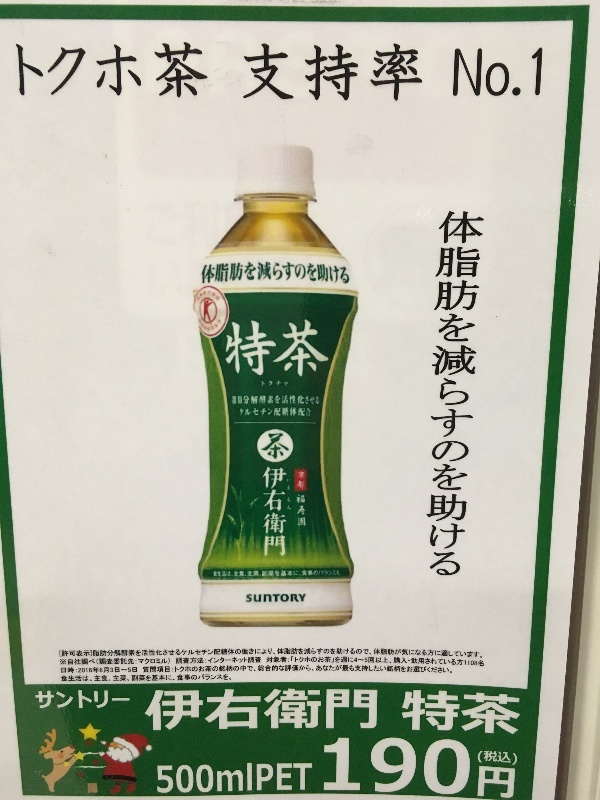text: (449, 210, 464, 583), (465, 210, 480, 583), (434, 210, 448, 583), (273, 429, 288, 557), (261, 429, 272, 557), (481, 210, 484, 583), (241, 40, 256, 110), (257, 40, 272, 110), (273, 40, 288, 110), (289, 40, 304, 110), (305, 40, 320, 110), (321, 40, 336, 110), (337, 40, 352, 110), (353, 40, 368, 110), (369, 40, 384, 110), (385, 40, 400, 110), (401, 40, 416, 110), (241, 314, 256, 383), (257, 314, 272, 383), (273, 314, 288, 383), (289, 314, 304, 383), (305, 314, 320, 383), (465, 40, 480, 105), (481, 40, 496, 105), (497, 40, 512, 105), (513, 40, 528, 105), (529, 40, 544, 105), (226, 314, 240, 383), (337, 737, 352, 800), (353, 737, 368, 800), (369, 737, 384, 800), (385, 737, 400, 800), (401, 737, 416, 800), (417, 737, 432, 800), (433, 737, 448, 800), (449, 737, 464, 800), (33, 40, 48, 101), (49, 40, 64, 101), (65, 40, 80, 101), (81, 40, 96, 101), (97, 40, 112, 101), (113, 40, 128, 101), (129, 40, 144, 101), (145, 40, 160, 101), (161, 40, 176, 101), (177, 40, 192, 101), (193, 40, 208, 101), (18, 40, 32, 101), (452, 40, 464, 105), (145, 684, 160, 736), (161, 684, 176, 736), (177, 684, 192, 736), (193, 684, 208, 736), (209, 684, 224, 736), (225, 684, 240, 736), (241, 684, 256, 736), (257, 684, 272, 736), (273, 684, 288, 736), (289, 684, 304, 736), (305, 684, 320, 736), (321, 684, 336, 736), (337, 684, 352, 736), (353, 684, 368, 736), (417, 689, 432, 740), (433, 689, 448, 740), (449, 689, 464, 740), (465, 689, 480, 740), (481, 689, 496, 740), (497, 689, 512, 740), (324, 737, 336, 800), (402, 689, 416, 740), (417, 40, 427, 110), (321, 314, 330, 383), (369, 684, 380, 736), (257, 761, 272, 797), (273, 761, 288, 797), (289, 761, 304, 797), (225, 762, 240, 797), (241, 389, 256, 422), (257, 389, 272, 422), (273, 389, 288, 422), (289, 389, 304, 422), (305, 389, 320, 422), (481, 767, 496, 799), (497, 767, 512, 799), (465, 737, 472, 800), (161, 765, 176, 794), (177, 765, 192, 794), (193, 765, 208, 794), (241, 762, 253, 797), (513, 689, 521, 740), (209, 260, 224, 286), (225, 260, 240, 286), (241, 260, 256, 286), (257, 260, 272, 286), (273, 260, 288, 286), (289, 260, 304, 286), (305, 260, 320, 286), (321, 260, 336, 286), (337, 260, 351, 286), (305, 761, 314, 797), (81, 648, 96, 669), (97, 648, 112, 669), (113, 648, 128, 669), (129, 648, 144, 669), (145, 648, 160, 669), (161, 648, 176, 669), (177, 648, 192, 669), (193, 648, 208, 669), (209, 648, 224, 669), (225, 648, 240, 669), (241, 648, 256, 669), (257, 648, 272, 669), (273, 648, 288, 669), (289, 648, 304, 669), (305, 648, 320, 669), (321, 648, 336, 669), (337, 648, 352, 669), (353, 648, 368, 669), (369, 648, 384, 669), (385, 648, 400, 669), (401, 648, 416, 669), (417, 648, 432, 669), (433, 648, 448, 669), (449, 648, 464, 669), (465, 648, 480, 669), (49, 690, 64, 710), (65, 690, 80, 710), (81, 690, 96, 710), (97, 690, 112, 710), (113, 690, 128, 710), (216, 762, 224, 797), (232, 389, 240, 422), (35, 690, 48, 710), (68, 648, 80, 669), (209, 40, 213, 101), (481, 751, 496, 767), (497, 751, 512, 767), (209, 765, 216, 794), (545, 40, 548, 105), (321, 389, 326, 422), (65, 647, 80, 658), (81, 647, 96, 658), (97, 647, 112, 658), (113, 647, 128, 658), (129, 647, 144, 658), (145, 647, 160, 658), (161, 647, 176, 658), (177, 647, 192, 658), (193, 647, 208, 658), (209, 647, 224, 658), (225, 647, 240, 658), (241, 647, 256, 658), (257, 647, 272, 658), (273, 647, 288, 658), (289, 647, 304, 658), (305, 647, 320, 658), (321, 647, 336, 658), (337, 647, 352, 658), (353, 647, 368, 658), (369, 647, 384, 658), (385, 647, 400, 658), (401, 647, 416, 658), (417, 647, 432, 658), (433, 647, 448, 658), (449, 647, 464, 658), (465, 647, 480, 658), (65, 662, 80, 673), (81, 662, 96, 673), (97, 662, 112, 673), (113, 662, 128, 673), (129, 662, 144, 673), (145, 662, 160, 673), (161, 662, 176, 673), (177, 662, 192, 673), (193, 662, 208, 673), (209, 662, 224, 673), (225, 662, 240, 673), (241, 662, 256, 673), (257, 662, 272, 673), (273, 662, 288, 673), (289, 662, 304, 673), (305, 662, 320, 673), (321, 662, 336, 673), (337, 662, 352, 673), (353, 662, 368, 673), (369, 662, 384, 673), (385, 662, 400, 673), (401, 662, 416, 673), (417, 662, 432, 673), (433, 662, 448, 673), (257, 593, 272, 603), (273, 593, 288, 603), (289, 593, 304, 603), (65, 674, 80, 684), (81, 674, 96, 684), (97, 674, 112, 684), (113, 674, 128, 684), (129, 674, 144, 684), (145, 674, 160, 684), (161, 674, 176, 684), (177, 674, 192, 684), (193, 674, 208, 684), (209, 674, 224, 684), (203, 260, 208, 286), (289, 429, 290, 557), (156, 765, 160, 794), (225, 570, 240, 577), (241, 570, 256, 577), (257, 570, 272, 577), (273, 570, 288, 577), (289, 570, 304, 577), (305, 570, 320, 577), (321, 570, 336, 577), (513, 767, 516, 799), (247, 593, 256, 603), (212, 570, 224, 577), (513, 751, 518, 767), (225, 674, 232, 684), (58, 647, 64, 658), (481, 648, 484, 669), (481, 647, 486, 658), (477, 751, 480, 767), (449, 662, 453, 673), (479, 767, 480, 799), (305, 593, 308, 603), (62, 662, 64, 673), (337, 570, 340, 577), (129, 690, 130, 710), (62, 674, 64, 684)
